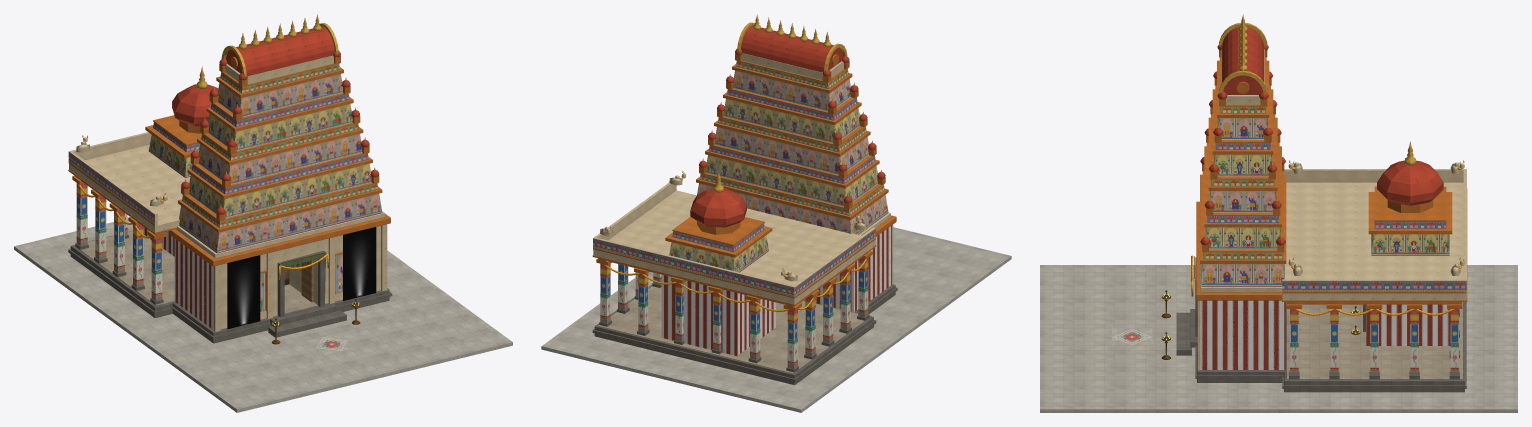
Rendered from LM_ENV_HinduTemple.glb.
The picture shows the model from 3 angles, left to right: view 1: azimuth 30°, elevation 25°; view 2: azimuth 150°, elevation 25°; view 3: azimuth 270°, elevation 25°; orthographic projection. The views are drawn at different scales.
Visible parts, largest first — view 1: HinduTemple | Plaza granite, HinduTemple | Night flood gopuram, HinduTemple | Night flood stucco, HinduTemple | Night flood trim, HinduTemple | Granite dark, HinduTemple | Night flood vault, HinduTemple | Night wash warm, HinduTemple | Painted pillar, HinduTemple | Kavi stripes, HinduTemple | Temple floor, HinduTemple | Gold leaf, HinduTemple | Kolam on granite (+1 smaller); view 2: HinduTemple | Night flood gopuram, HinduTemple | Plaza granite, HinduTemple | Night flood stucco, HinduTemple | Night flood trim, HinduTemple | Kavi stripes, HinduTemple | Painted pillar, HinduTemple | Night flood vault, HinduTemple | Temple floor, HinduTemple | Granite dark, HinduTemple | Gold leaf, HinduTemple | Marigold; view 3: HinduTemple | Plaza granite, HinduTemple | Night flood stucco, HinduTemple | Night flood gopuram, HinduTemple | Night flood trim, HinduTemple | Kavi stripes, HinduTemple | Temple floor, HinduTemple | Granite dark, HinduTemple | Night flood vault, HinduTemple | Painted pillar, HinduTemple | Gold leaf, HinduTemple | Kolam on granite, HinduTemple | Marigold.
Part boxes in pixels (bbox=[...]): HinduTemple | Plaza granite: bbox=[14, 218, 512, 412]; HinduTemple | Night flood gopuram: bbox=[68, 64, 382, 311]; HinduTemple | Night flood stucco: bbox=[69, 55, 387, 331]; HinduTemple | Night flood trim: bbox=[68, 56, 390, 311]; HinduTemple | Granite dark: bbox=[68, 230, 392, 343]; HinduTemple | Night flood vault: bbox=[172, 26, 379, 214]; HinduTemple | Night wash warm: bbox=[227, 227, 376, 329]; HinduTemple | Painted pillar: bbox=[76, 183, 162, 301]; HinduTemple | Kavi stripes: bbox=[143, 227, 214, 330]; HinduTemple | Temple floor: bbox=[74, 231, 317, 313]; HinduTemple | Gold leaf: bbox=[82, 14, 375, 207]; HinduTemple | Kolam on granite: bbox=[306, 333, 357, 354]; HinduTemple | Night flood gopuram: bbox=[593, 61, 888, 298]; HinduTemple | Plaza granite: bbox=[541, 227, 1011, 412]; HinduTemple | Night flood stucco: bbox=[593, 53, 893, 304]; HinduTemple | Night flood trim: bbox=[592, 54, 896, 310]; HinduTemple | Kavi stripes: bbox=[661, 226, 891, 355]; HinduTemple | Painted pillar: bbox=[600, 258, 868, 369]; HinduTemple | Night flood vault: bbox=[690, 25, 885, 227]; HinduTemple | Temple floor: bbox=[598, 286, 869, 373]; HinduTemple | Granite dark: bbox=[592, 283, 897, 384]; HinduTemple | Gold leaf: bbox=[605, 14, 881, 272]; HinduTemple | Marigold: bbox=[603, 178, 867, 311]; HinduTemple | Plaza granite: bbox=[1040, 265, 1517, 412]; HinduTemple | Night flood stucco: bbox=[1197, 49, 1466, 370]; HinduTemple | Night flood gopuram: bbox=[1201, 106, 1466, 293]; HinduTemple | Night flood trim: bbox=[1196, 50, 1467, 308]; HinduTemple | Kavi stripes: bbox=[1200, 300, 1450, 369]; HinduTemple | Temple floor: bbox=[1287, 302, 1462, 379]; HinduTemple | Granite dark: bbox=[1176, 257, 1466, 392]; HinduTemple | Night flood vault: bbox=[1200, 27, 1443, 245]; HinduTemple | Painted pillar: bbox=[1290, 309, 1458, 375]; HinduTemple | Gold leaf: bbox=[1204, 14, 1464, 261]; HinduTemple | Kolam on granite: bbox=[1111, 328, 1152, 345]; HinduTemple | Marigold: bbox=[1191, 167, 1462, 315].
Bounding box in the file's own units: 20 × 19.87 × 28.
Materials: 19 (16 with a texture image).
